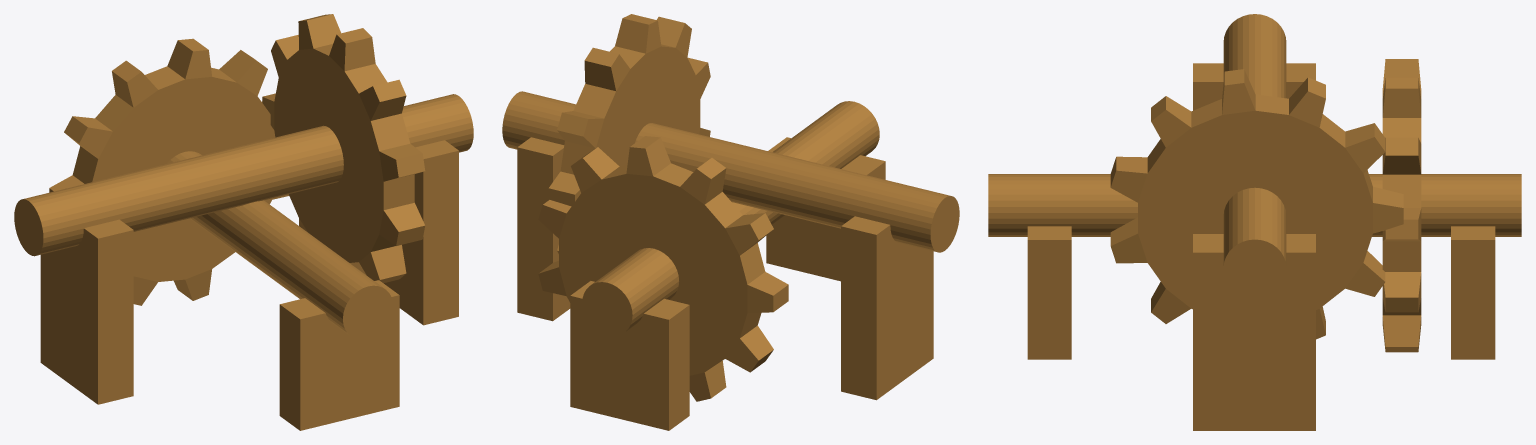
The model's file is gearbox.glb.
The picture shows the model from 3 angles, left to right: view 1: azimuth 30°, elevation 25°; view 2: azimuth 150°, elevation 25°; view 3: azimuth 270°, elevation 25°; orthographic projection. The views are drawn at different scales.
Parts seen in each view (by area): view 1: 円.001, 円, 円柱.001, 立方体.002, 立方体, 円柱, 立方体.003; view 2: 円, 円柱.001, 円.001, 立方体.002, 立方体.001, 円柱, 立方体.003, 立方体; view 3: 円.001, 立方体.003, 円柱, 円, 円柱.001, 立方体, 立方体.001, 立方体.002.
Part boxes in pixels (x1,y1,x2,y2): 円.001: [262, 14, 425, 283]; 円: [49, 38, 289, 305]; 円柱.001: [14, 94, 473, 256]; 立方体.002: [40, 219, 133, 404]; 立方体: [279, 280, 399, 430]; 円柱: [167, 151, 393, 339]; 立方体.003: [384, 140, 458, 325]; 円: [538, 136, 788, 401]; 円柱.001: [502, 91, 959, 252]; 円.001: [548, 14, 710, 253]; 立方体.002: [841, 216, 933, 400]; 立方体.001: [570, 281, 689, 430]; 円柱: [582, 101, 879, 336]; 立方体.003: [517, 137, 570, 321]; 立方体: [766, 137, 885, 281]; 円.001: [1110, 69, 1403, 339]; 立方体.003: [1193, 234, 1315, 430]; 円柱: [988, 174, 1521, 236]; 円: [1382, 59, 1421, 352]; 円柱.001: [1223, 14, 1286, 296]; 立方体: [1027, 226, 1071, 359]; 立方体.001: [1451, 226, 1495, 359]; 立方体.002: [1193, 63, 1315, 110].
Size of the model in its own units: 0.9888 by 0.6496 by 0.9888.
